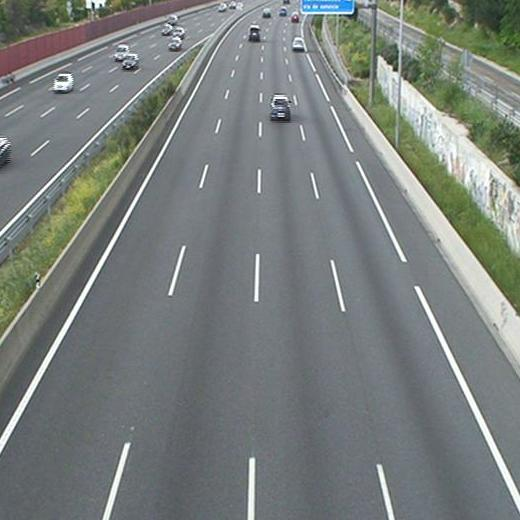car: (269, 94, 292, 121), (248, 24, 261, 42), (292, 35, 305, 52)
